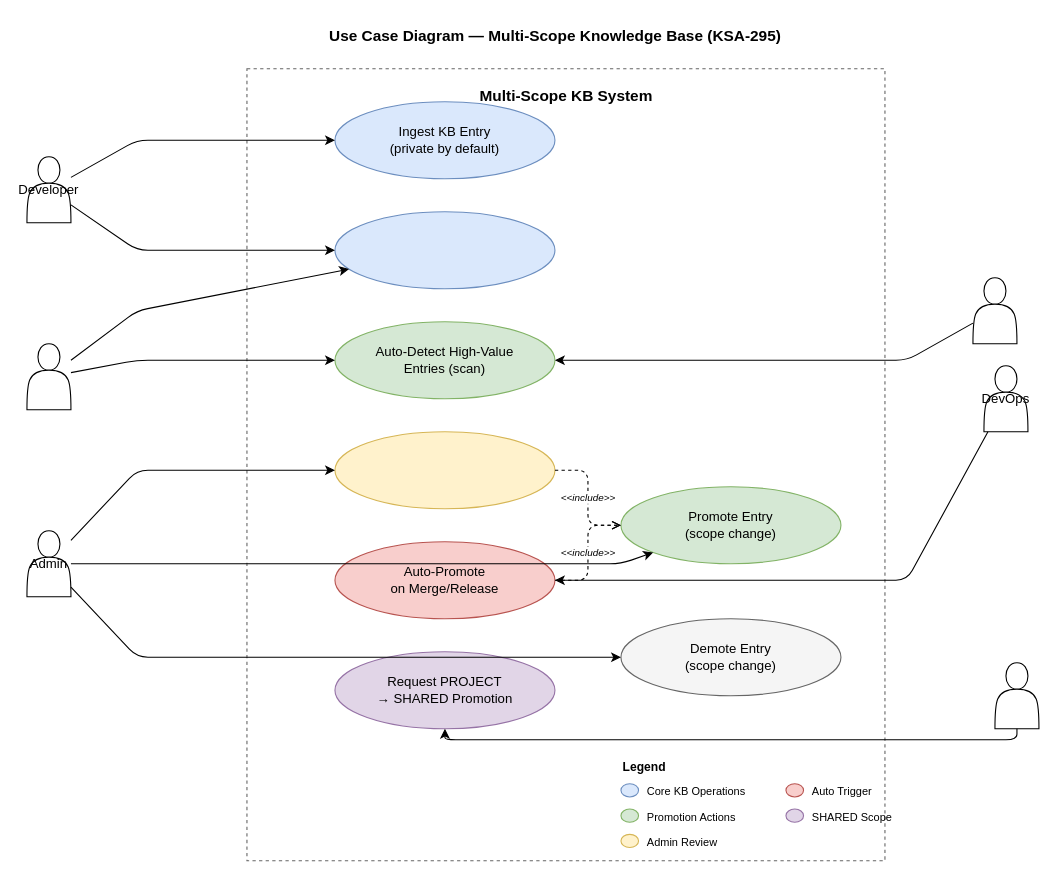
Some shapes in this 1062 by 880 pixel diagram are drawn without their labels. The shapes that lost their labels are listed below. From the top down, each one's centre as x and y in pixels, then its label:
point (444, 250): Search/List KB (scope-filtered)
point (994, 310): System (Background)
point (48, 376): Team Lead
point (444, 470): Approve/Reject Promotion
point (1016, 695): Architect
